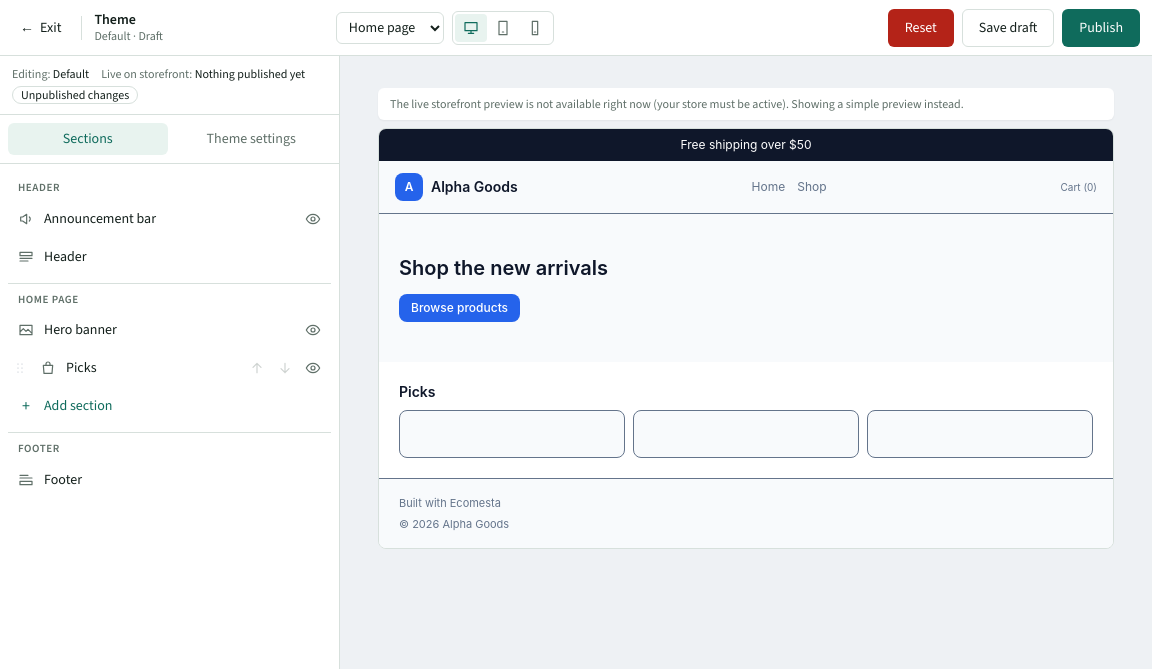
Test: Theme customizer › opens as a Shopify-style editor: sections list, settings panels and a preview
This screenshot has width=1152, height=669.
Expected: the heading "Theme" is shown, [94,10,136,29]
Expected: the tab "Sections" is shown, [8,123,168,155]
# Only the products block is listed in the draft: categories can be added back.
Click the button "+ Add section": [78, 406] box [8,388,331,424]
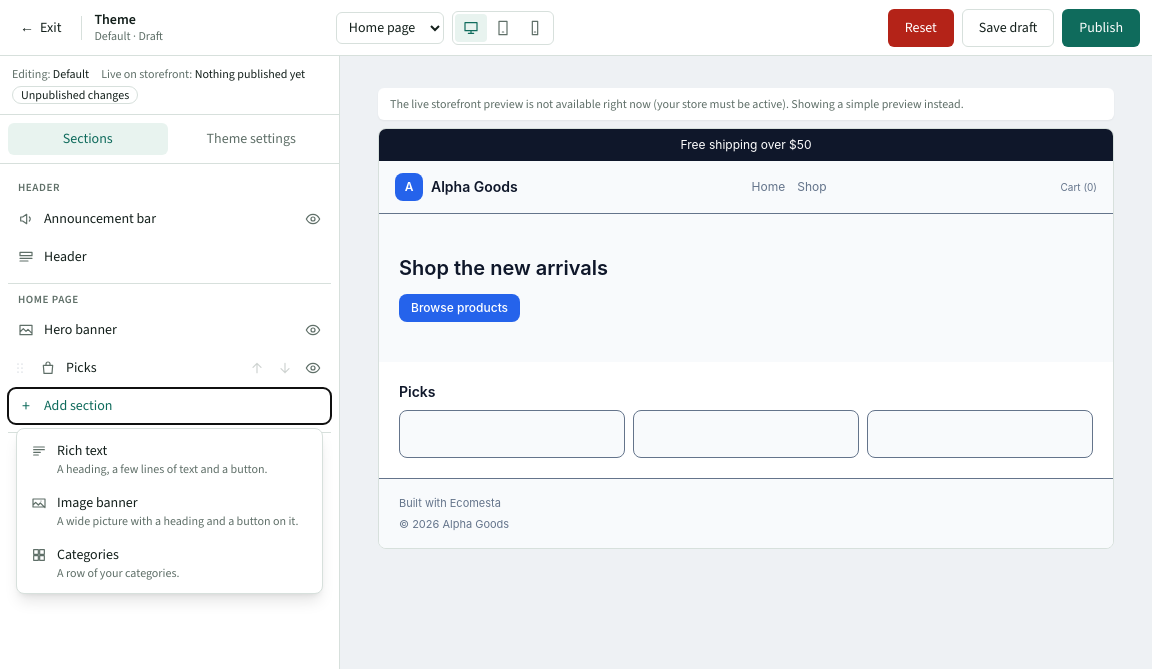
Expected: the menu item "Categories A row of your categories." is shown, [21,537,318,589]
Expected: the menu item "Rich text A heading, a few lines of text and a button." is shown, [21,433,318,485]
Expected: the menu item "Image banner" is shown, [21,485,318,537]
Press Escape
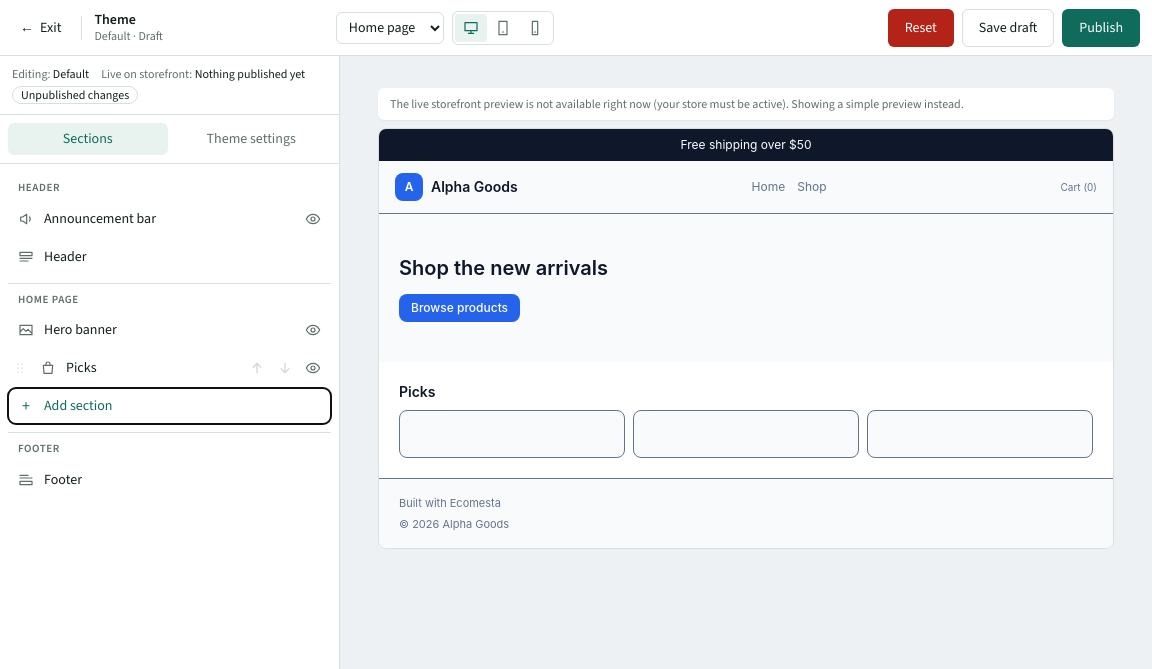
Click the button "Hero banner": [80, 330] box [8,312,295,348]
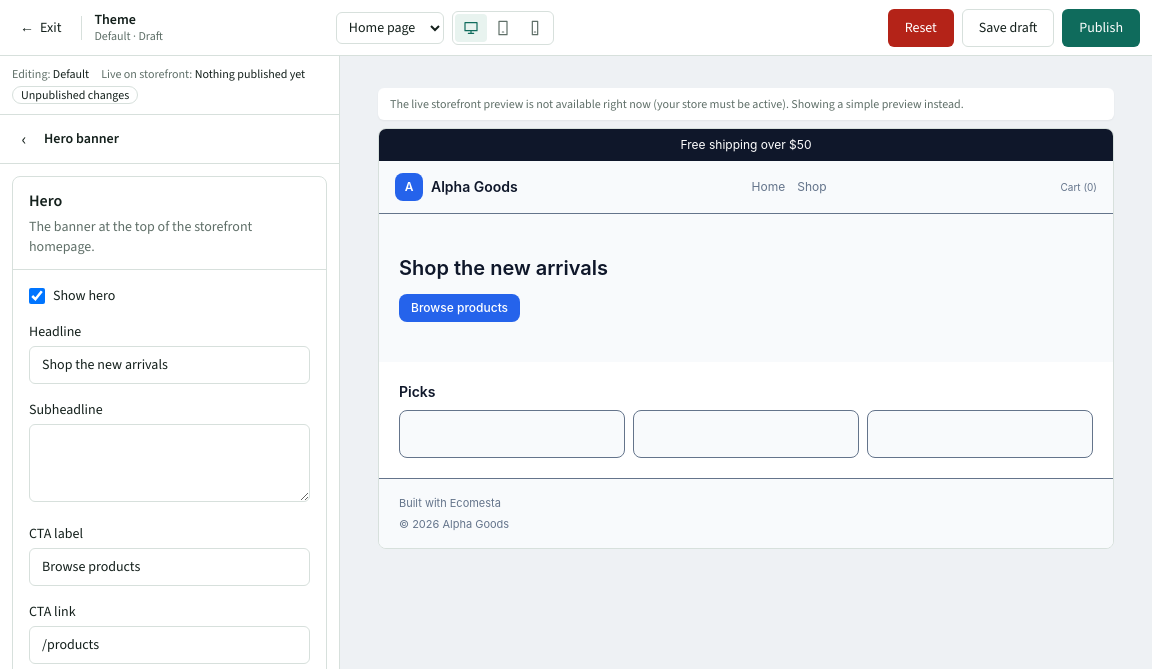
Expected: the heading "Hero" is shown, [29,190,62,211]
Expected: the field labelled "Headline" holds "Shop the new arrivals", [29,346,310,384]
Click the button named "Back to sections": [24, 139] box [8,123,40,155]
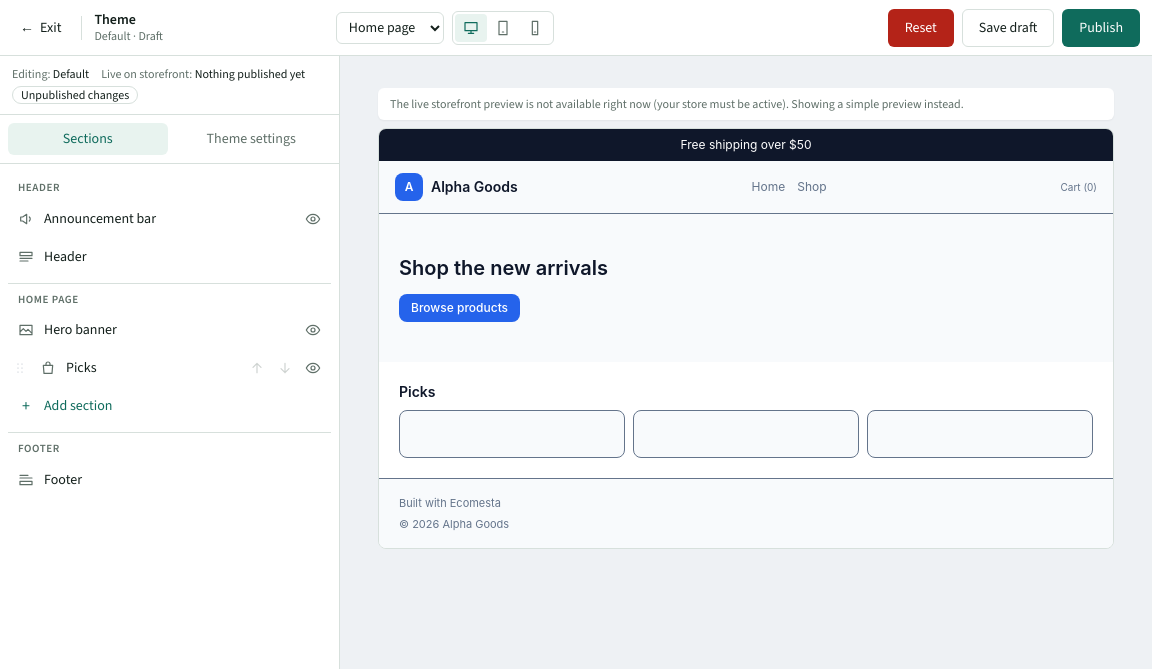
Click the tab "Theme settings": [251, 139] box [172,123,331,155]
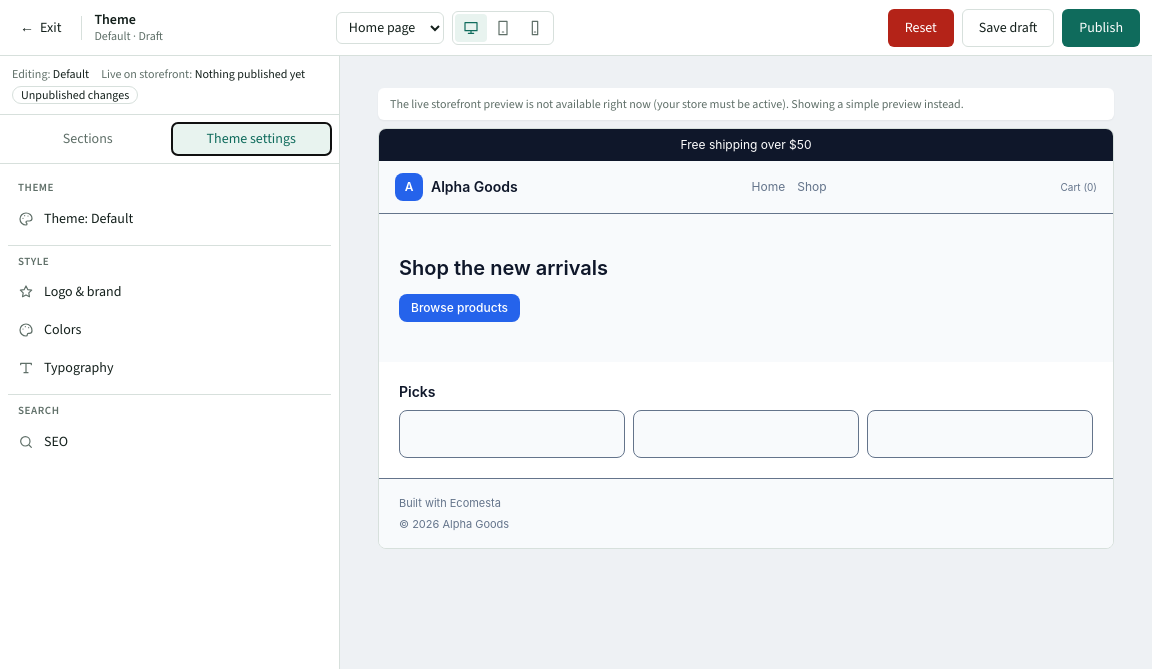
Expected: the button "Logo & brand" is shown
Expected: the button "Colors" is shown, [8,312,331,348]
Expected: the button "Typography" is shown, [8,350,331,386]
Click the button "Logo & brand": [83, 292] box [8,274,331,310]
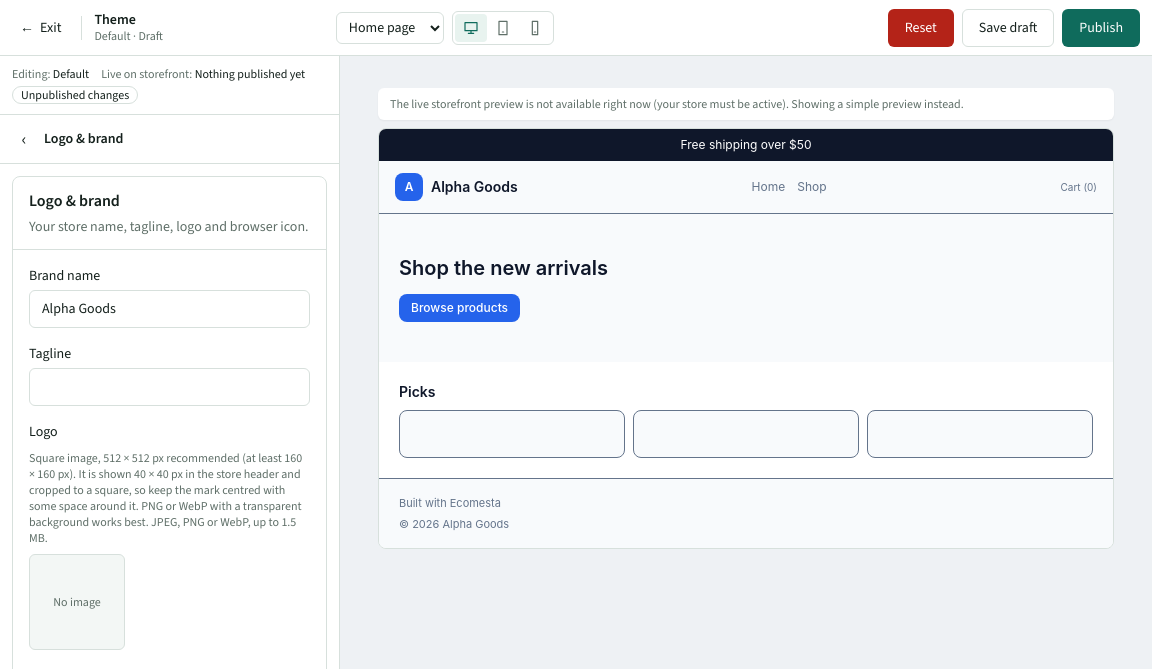
Expected: the element named "Storefront preview" shows "Free shipping over $50", [680,137,811,152]
Expected: the heading "Logo & brand" is shown, [29,190,120,211]
Expected: the field labelled "Brand name" holds "Alpha Goods", [29,290,310,328]
